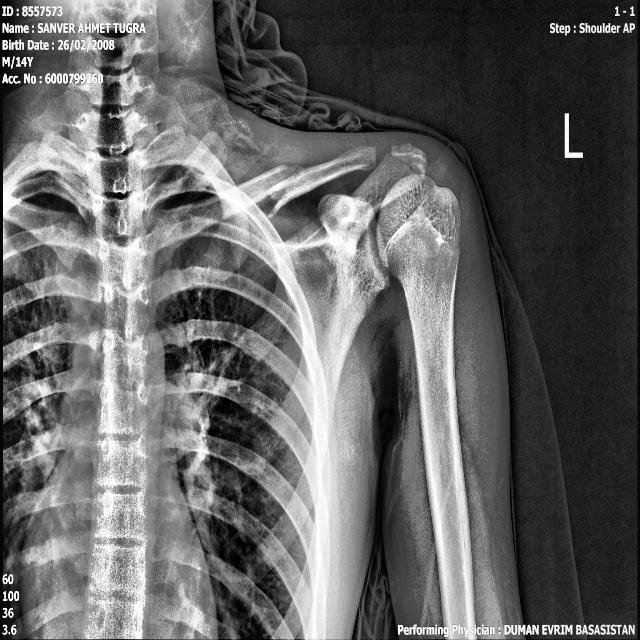Fracture: (253, 154, 309, 222)
